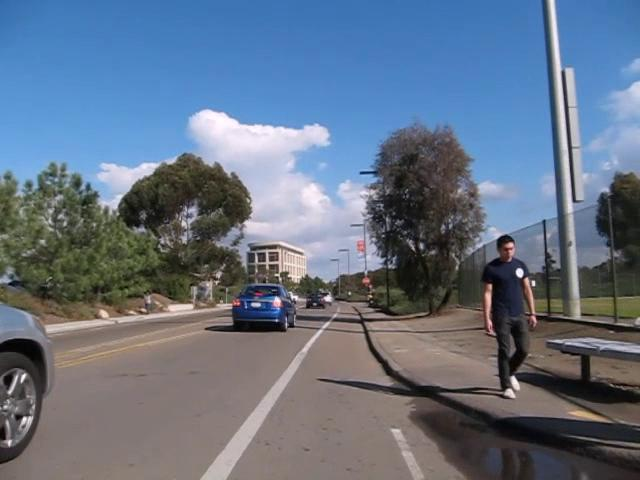stop: (360, 276, 370, 286)
